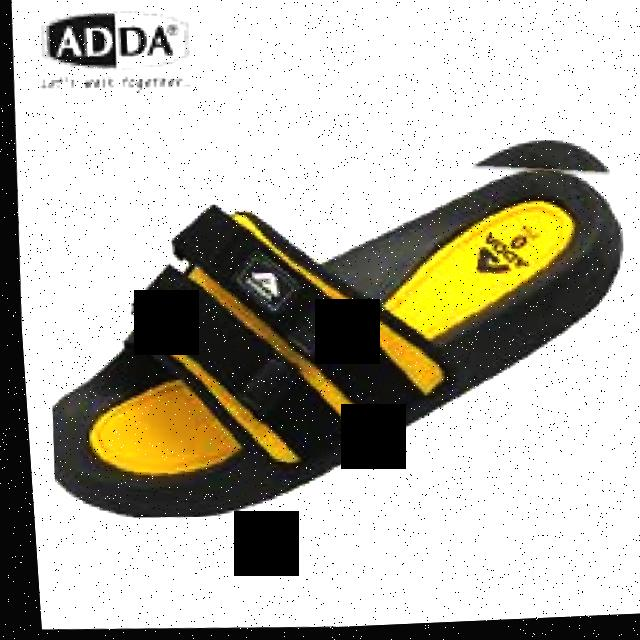shoe: (29, 124, 640, 538)
